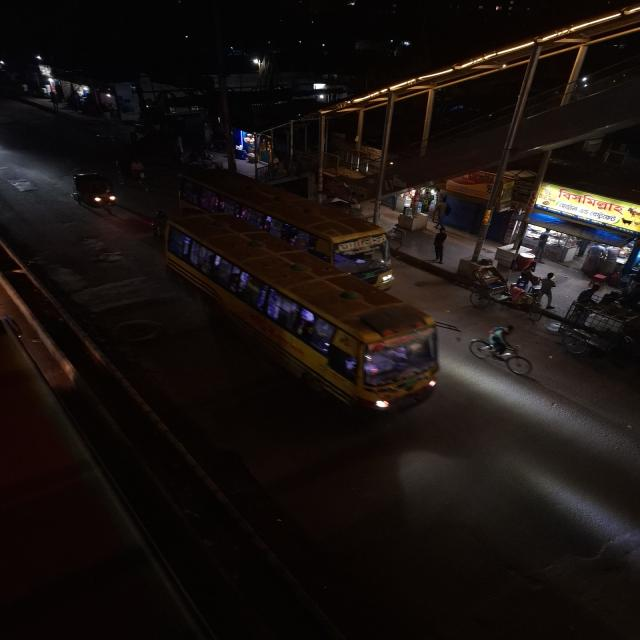bicycle: (471, 324, 533, 376)
bus: (160, 218, 457, 418), (170, 165, 401, 288)
cng: (67, 170, 121, 213)
pedestrian: (428, 228, 456, 268)
rickshaw: (471, 263, 542, 324), (121, 158, 158, 192)
